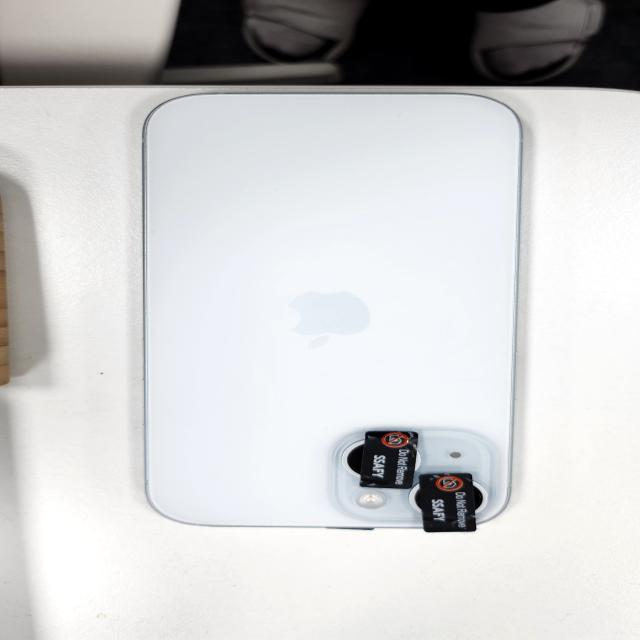phone: (132, 91, 518, 530)
sticker: (416, 470, 479, 536), (361, 429, 418, 492)
